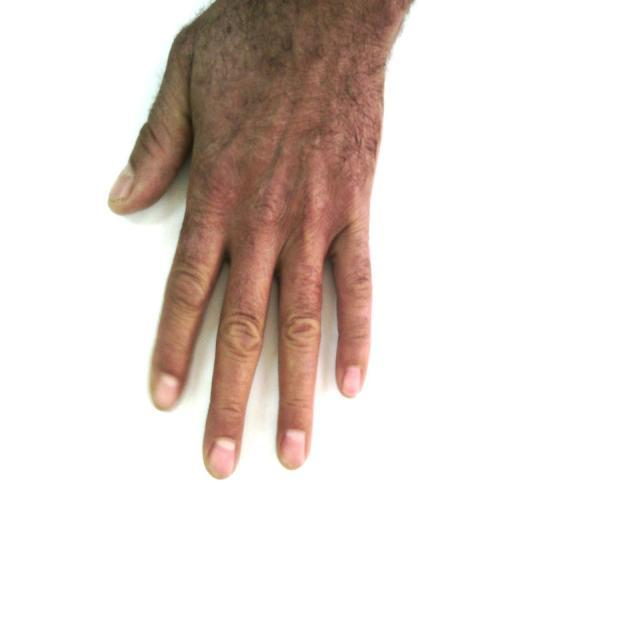Fingernail: (209, 440, 235, 478), (281, 430, 305, 468), (109, 166, 133, 202), (155, 375, 179, 408), (343, 366, 361, 396)
